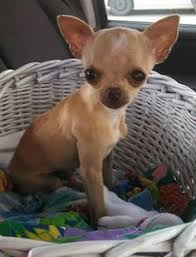chihuahua: (1, 10, 193, 232)
